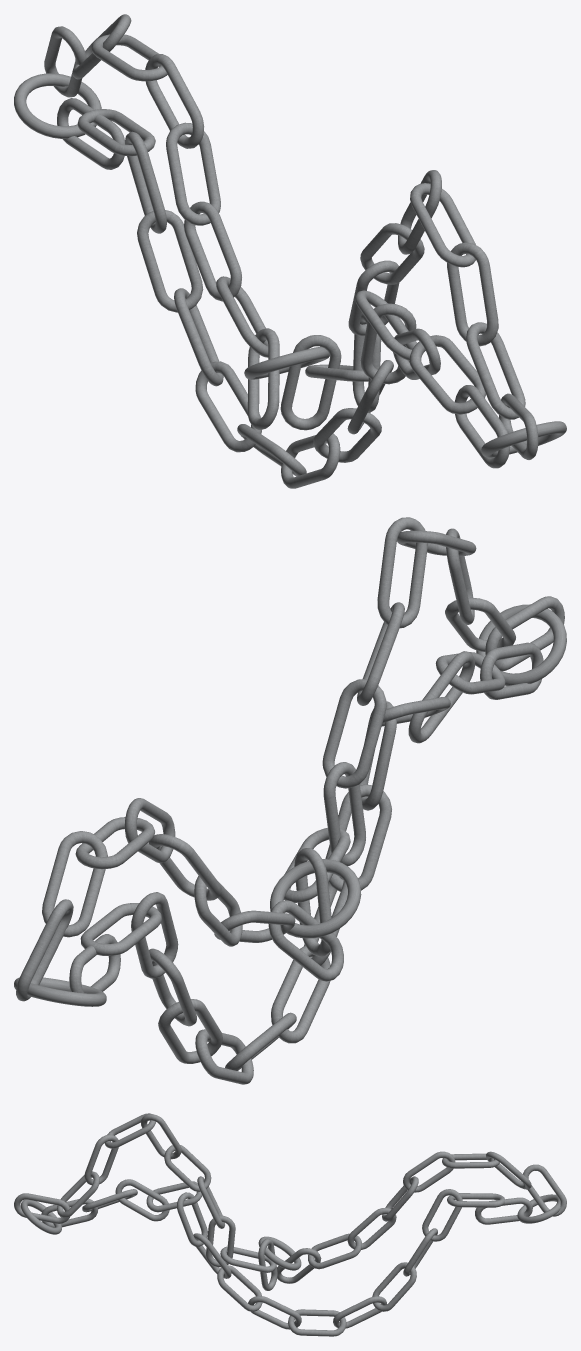
Rendered from Chains.fbx.
3 renders of one model, top to bottom at view 1: azimuth 30°, elevation 25°; view 2: azimuth 150°, elevation 25°; view 3: azimuth 270°, elevation 25°, orthographic. The views are drawn at different scales.
Visible parts, largest first — view 1: Chains; view 2: Chains; view 3: Chains.
Boxes of the visible parts, x1,y1,x2,y2 form: Chains: [14, 14, 566, 488]; Chains: [14, 517, 566, 1084]; Chains: [14, 1113, 566, 1336].
Size of the model in its own units: 240 by 938 by 2110.
Materials: 1 (1 with a texture image).
